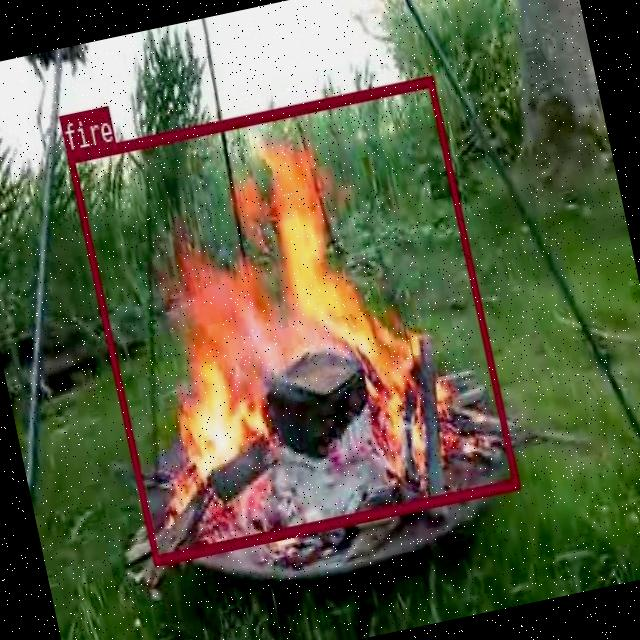fire: (66, 74, 518, 564)
